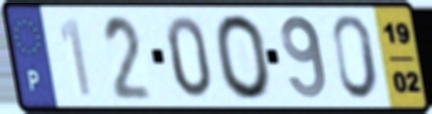0: (164, 12, 215, 102), (330, 13, 381, 103)
1: (58, 15, 93, 99)
2: (101, 12, 157, 102)
9: (278, 13, 330, 101)
O: (212, 11, 275, 103)
